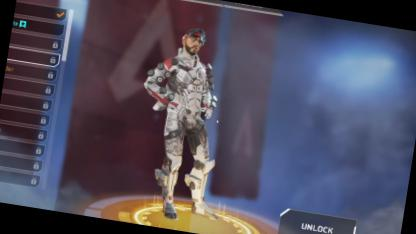Target: (129, 23, 233, 219)
